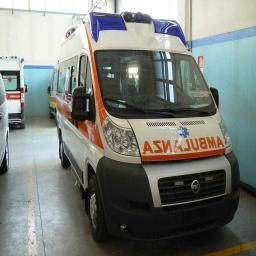Ambulance: (56, 12, 238, 240), (0, 56, 25, 128)
